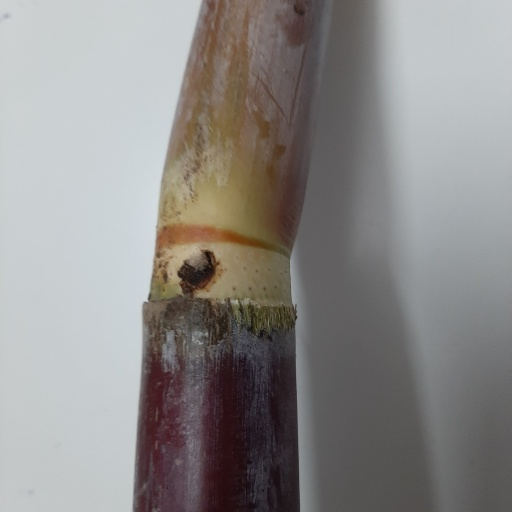Damage_Bud: (177, 249, 221, 295)
